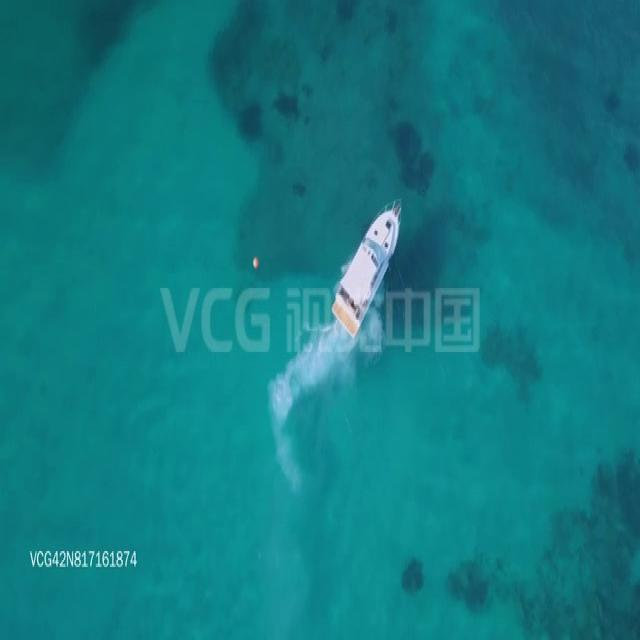houseboat: (327, 197, 404, 334)
